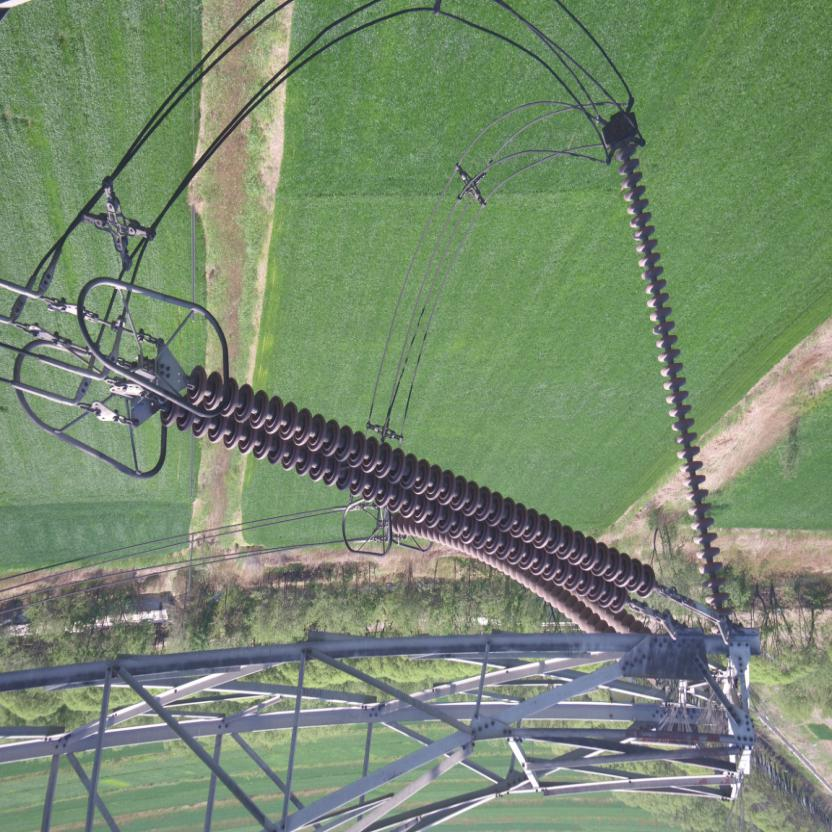insulator: (154, 363, 668, 618)
